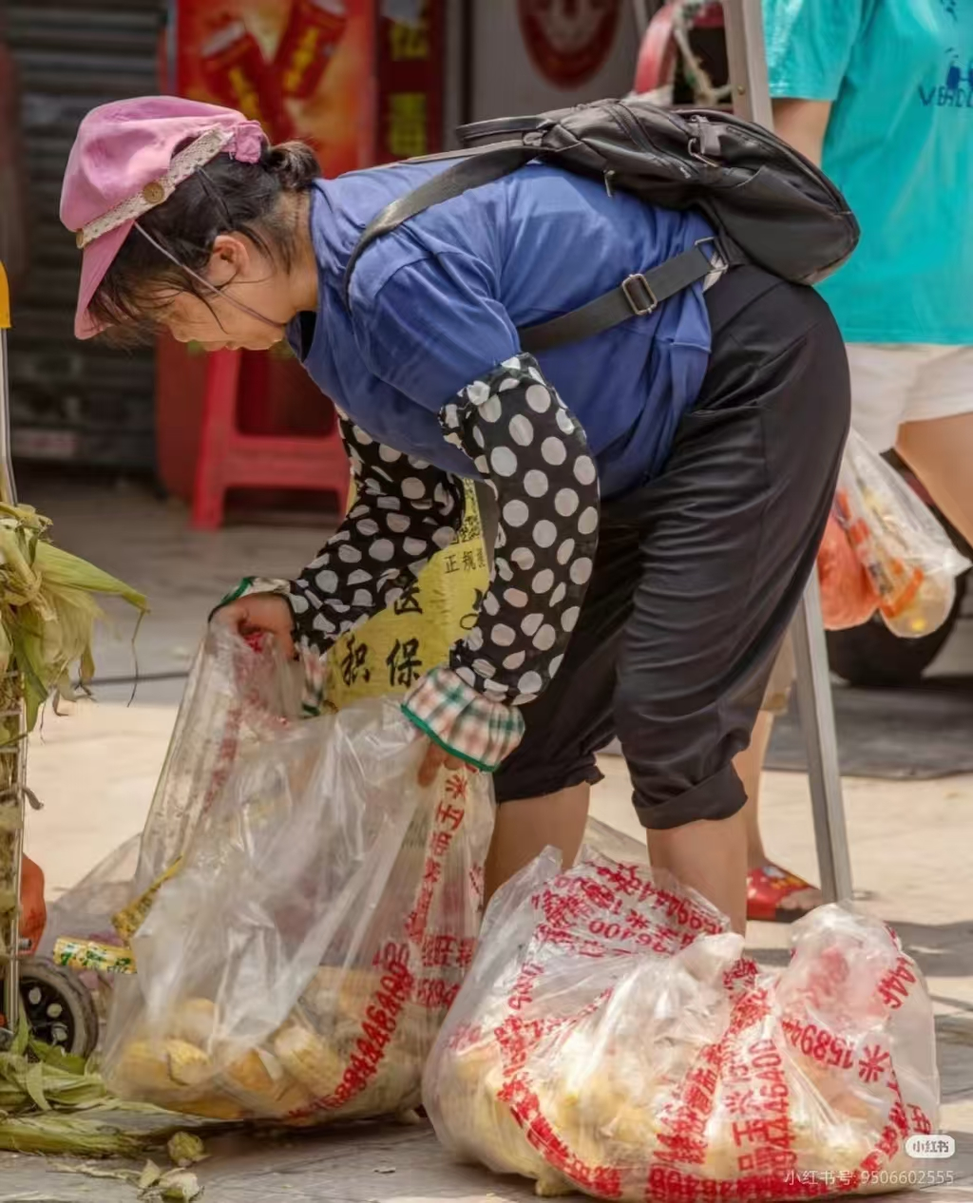bending: (52, 35, 825, 1047)
